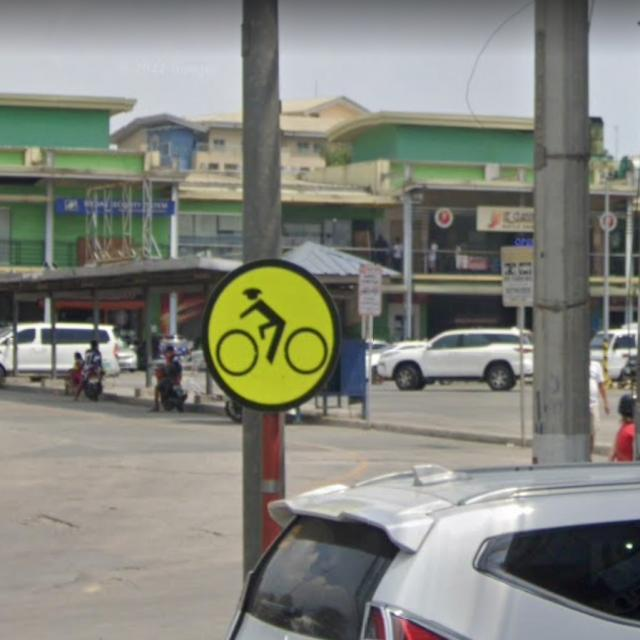bike lane: (200, 260, 339, 409)
